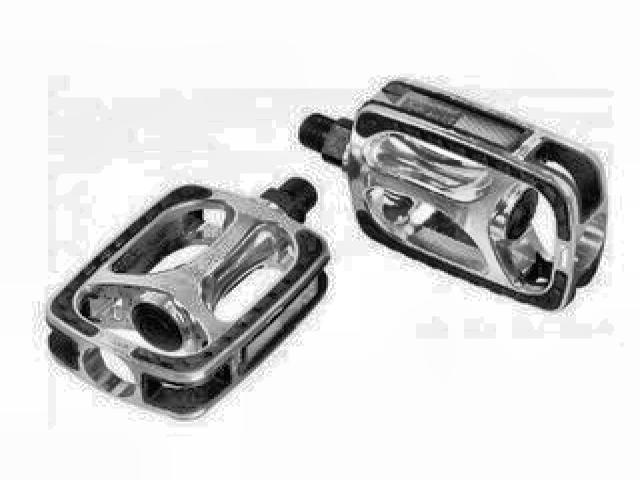pedal: (292, 68, 612, 322), (46, 162, 334, 424)
